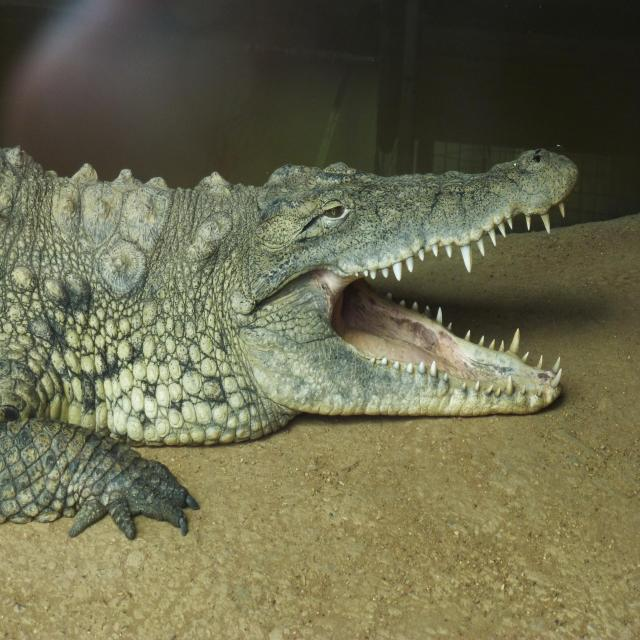crocodile: (2, 144, 584, 521)
